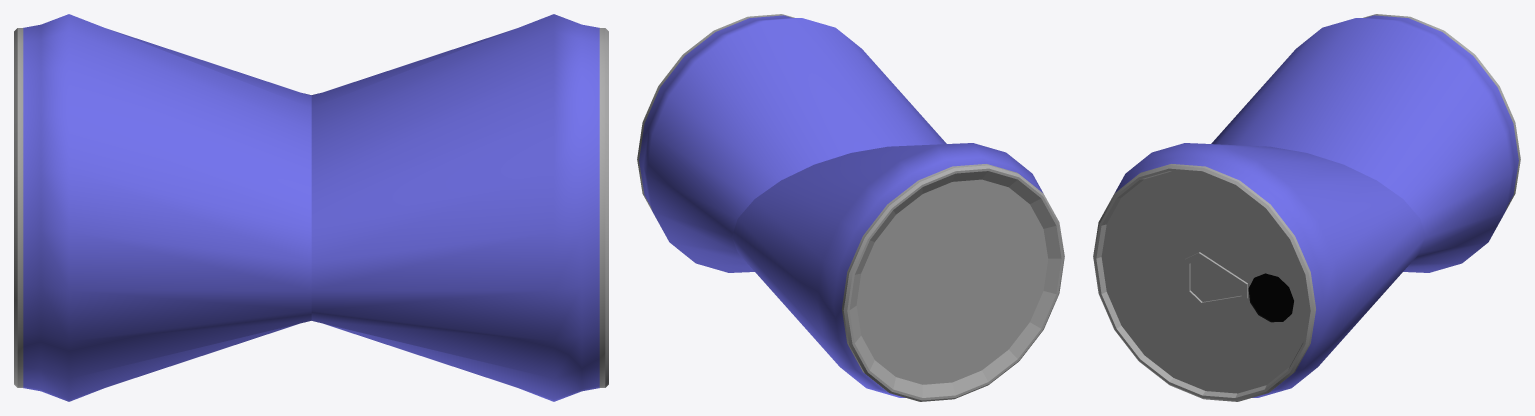
Rendered from Crushed Blue can.fbx.
3 views of the same model, side by side, from view 1: azimuth 30°, elevation 25°; view 2: azimuth 150°, elevation 25°; view 3: azimuth 270°, elevation 25° (orthographic). The views are drawn at different scales.
Parts seen in each view (by area): view 1: pCylinder13; view 2: pCylinder13; view 3: pCylinder13.
Boxes of the visible parts, left/top/right/bottom form: pCylinder13: left=14, top=14, right=608, bottom=401; pCylinder13: left=637, top=14, right=1064, bottom=401; pCylinder13: left=1093, top=14, right=1520, bottom=401.
Size of the model in its own units: 0.4992 by 0.2817 by 0.4381.
